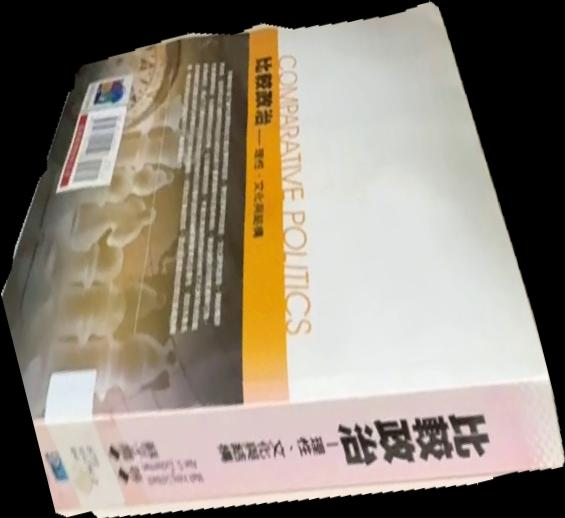flat: (1, 1, 565, 518)
